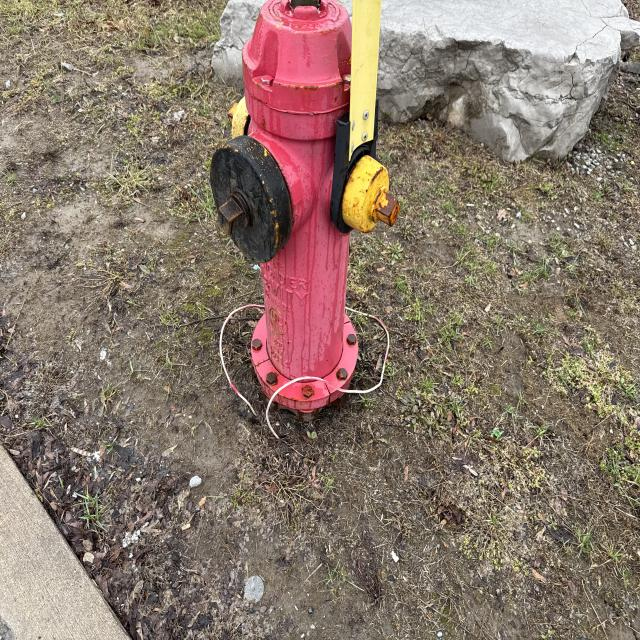Fire hydrant: (208, 1, 400, 418)
